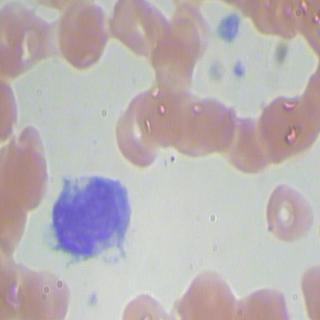Platelets: (214, 10, 241, 42), (231, 54, 249, 78), (82, 286, 100, 310)
RBC: (0, 120, 50, 208), (104, 100, 164, 170), (123, 78, 183, 148), (199, 102, 259, 172), (218, 106, 278, 176), (56, 0, 116, 70), (108, 0, 168, 70), (257, 178, 316, 248), (155, 90, 214, 160), (178, 86, 237, 156), (253, 90, 312, 160), (146, 18, 205, 88), (179, 264, 239, 320)
WBC: (45, 170, 136, 268)
